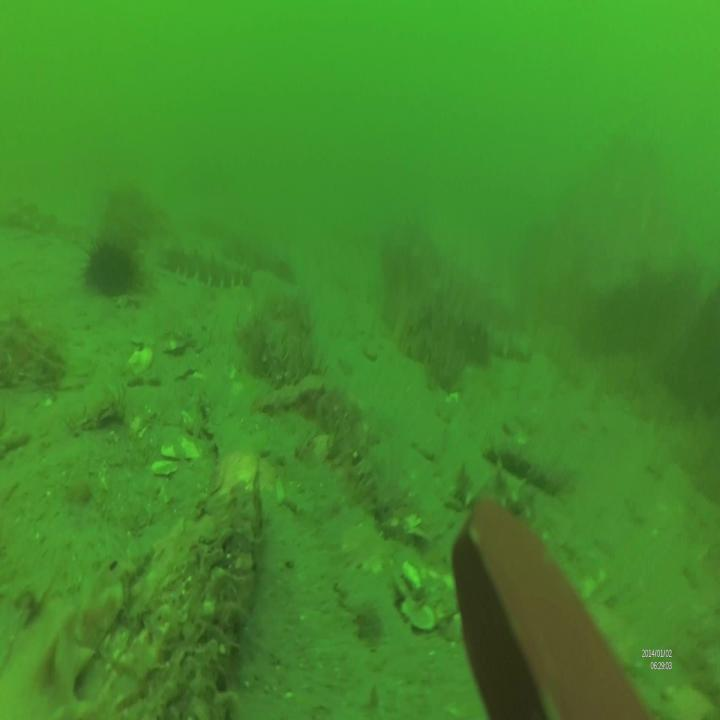echinus: (80, 234, 132, 296)
holothurian: (155, 238, 257, 301), (480, 433, 568, 494)
